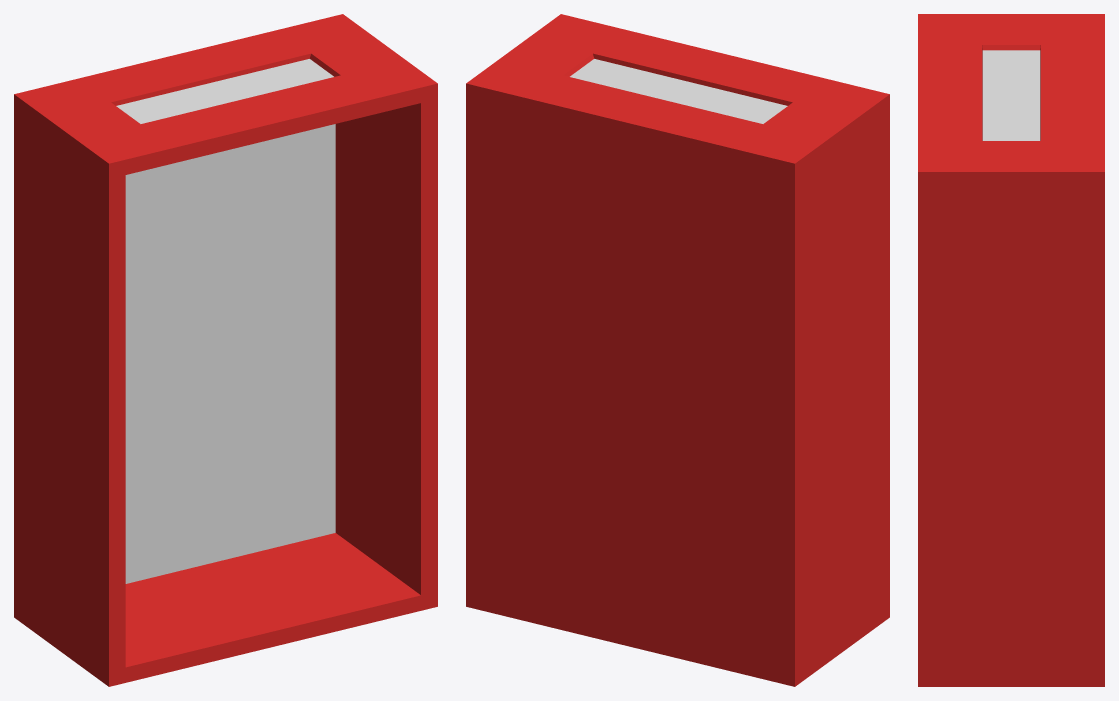
File: warehouse_container_4.glb
The picture shows the model from 3 angles, left to right: view 1: azimuth 30°, elevation 25°; view 2: azimuth 150°, elevation 25°; view 3: azimuth 270°, elevation 25°; orthographic projection.
Parts seen in each view (by area): view 1: Cube; view 2: Cube; view 3: Cube.
Part boxes in pixels (x1,y1,x2,y2): Cube: (14,14,437,686); Cube: (466,14,889,686); Cube: (918,14,1104,686).
Bounding box in the file's own units: 0.3532 × 0.537 × 0.1766.
